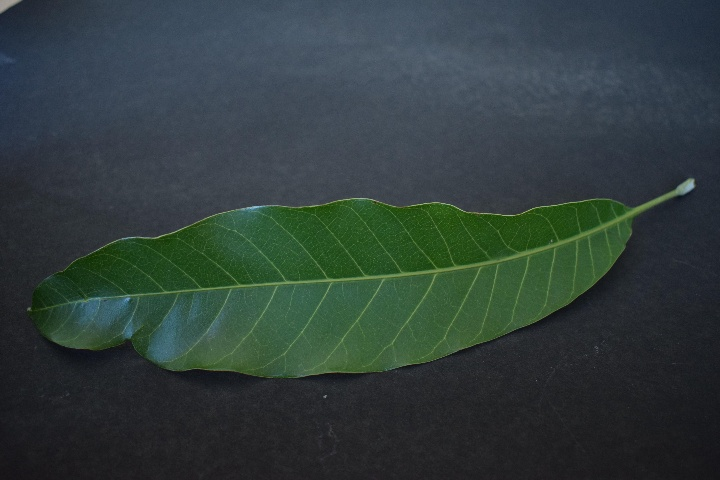healthy: (60, 198, 644, 367)
